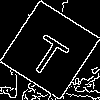T: (25, 25, 76, 80)
